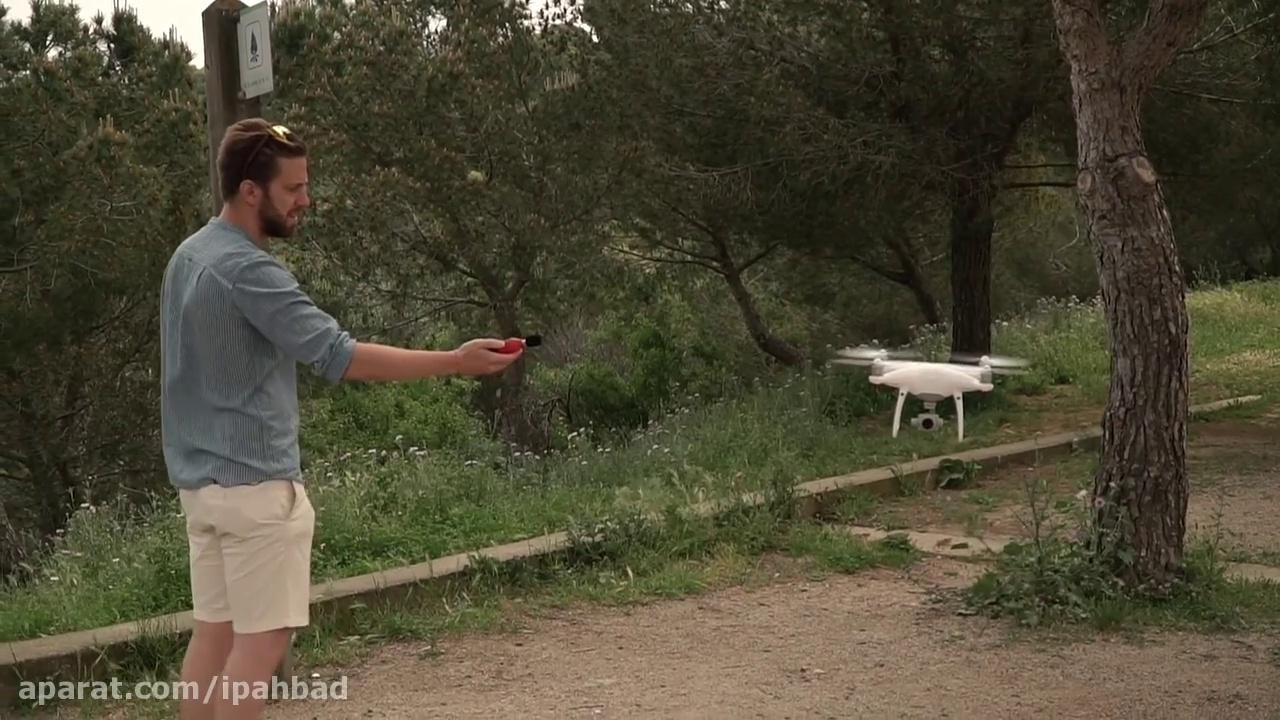drone: (827, 339, 1038, 443)
